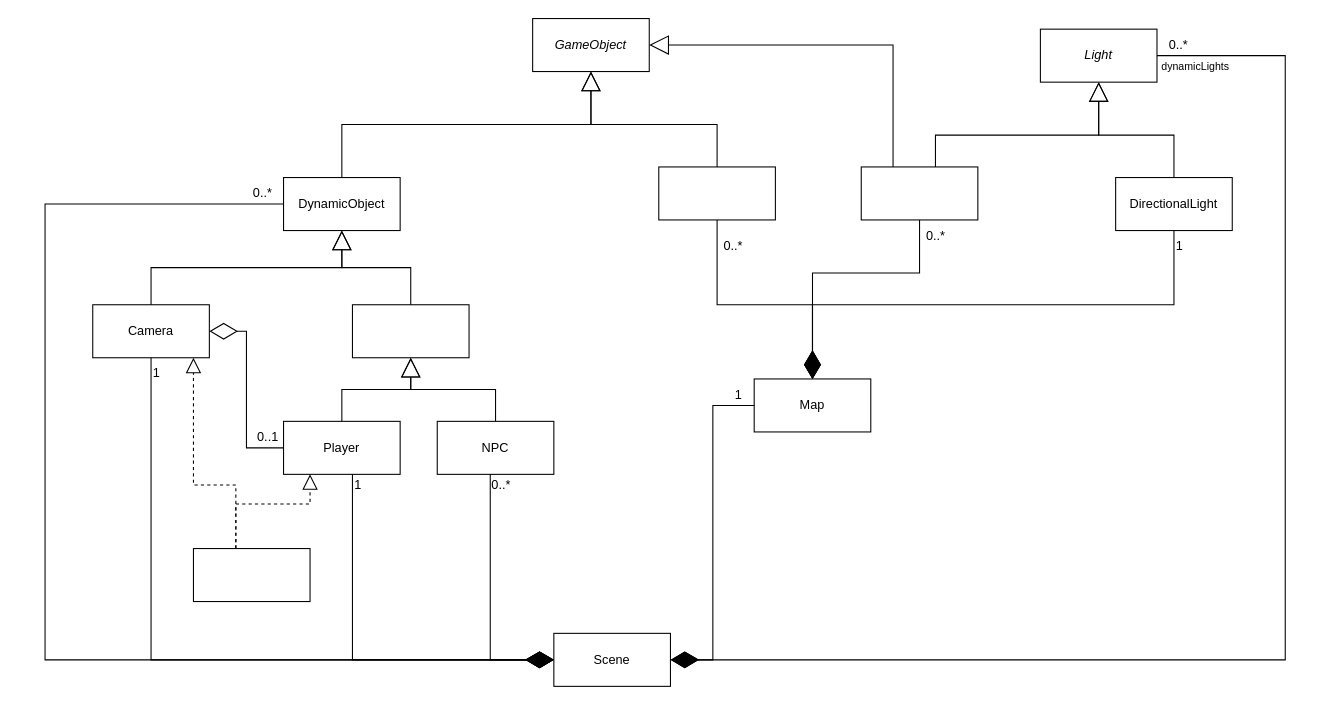
The diagram is 1331 pixels wide and 706 high, and some of its shapes have lost their labels. The shapes that lost their labels are listed below. From the top down, each one's centre as x and y in pixels, then its label:
At point 716,193: "StaticObject".
At point 919,193: "PointLight".
At point 410,331: "Character".
At point 251,574: "«interface» IControllable".
